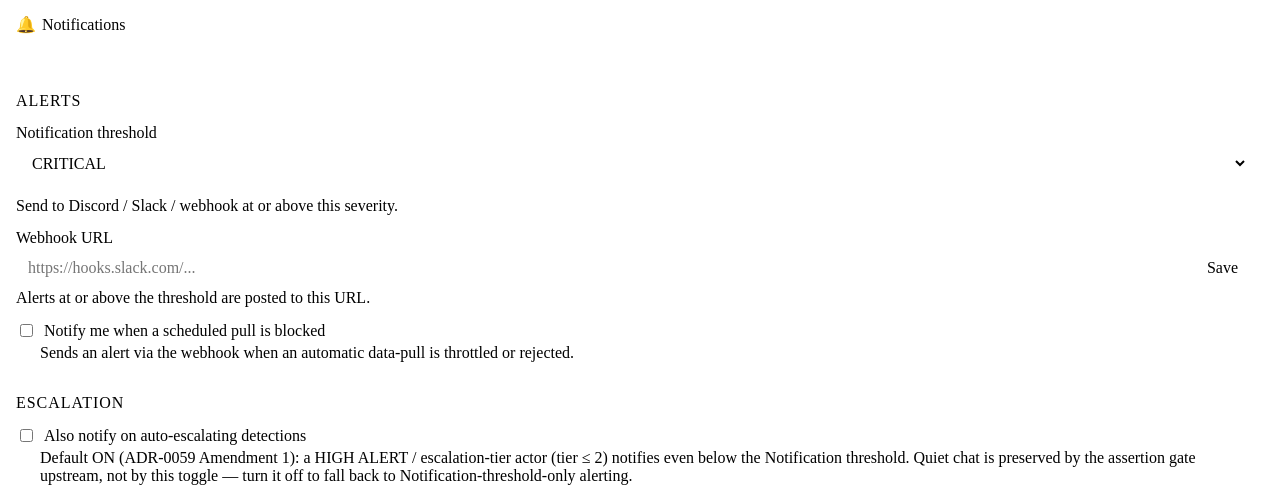
Test case: NotificationsPanel — WebhookField › shows success toast after alert_on_sync toggle
Click the checkbox with test id "alert-on-sync-blocks". click: (26, 330)
box: x1=20 y1=324 x2=33 y2=337
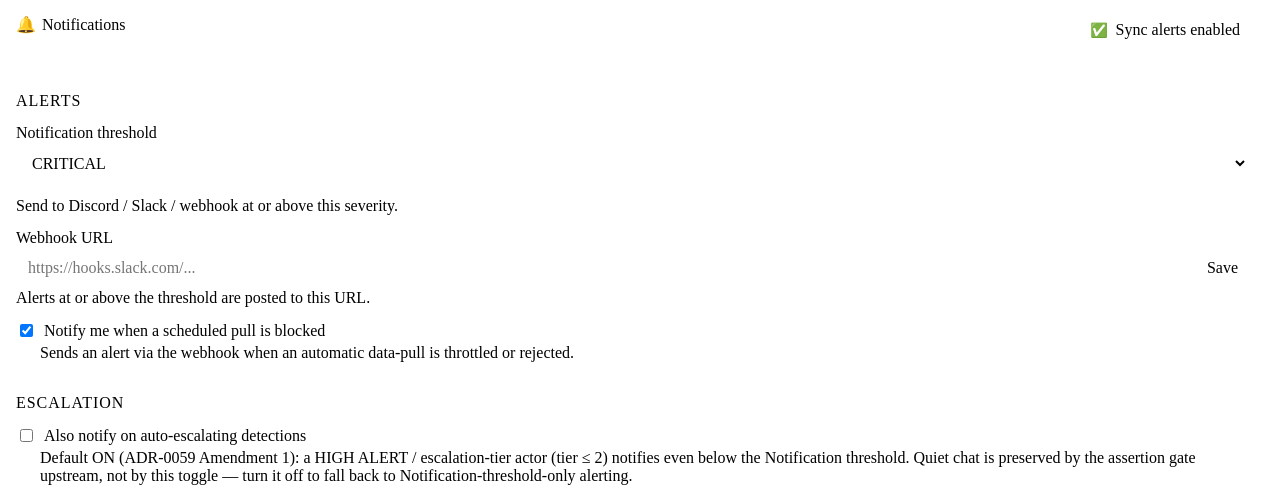
Now the message shows "enabled", box x1=1116 y1=21 x2=1240 y2=38
